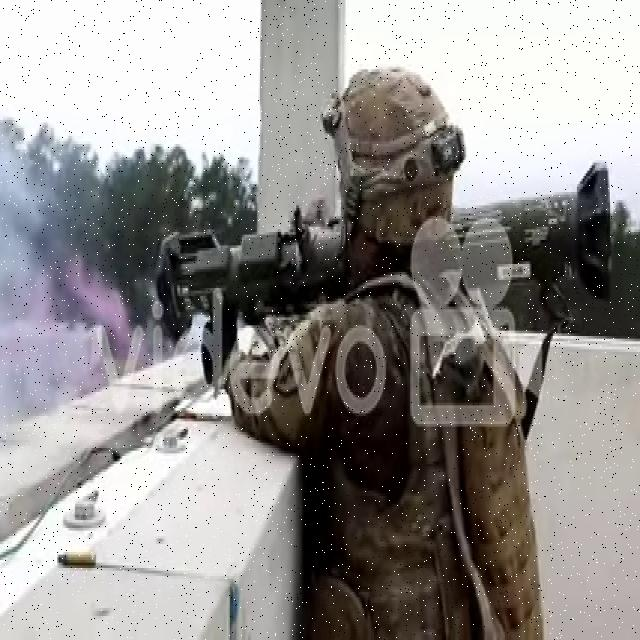bazooka: (154, 146, 619, 342)
